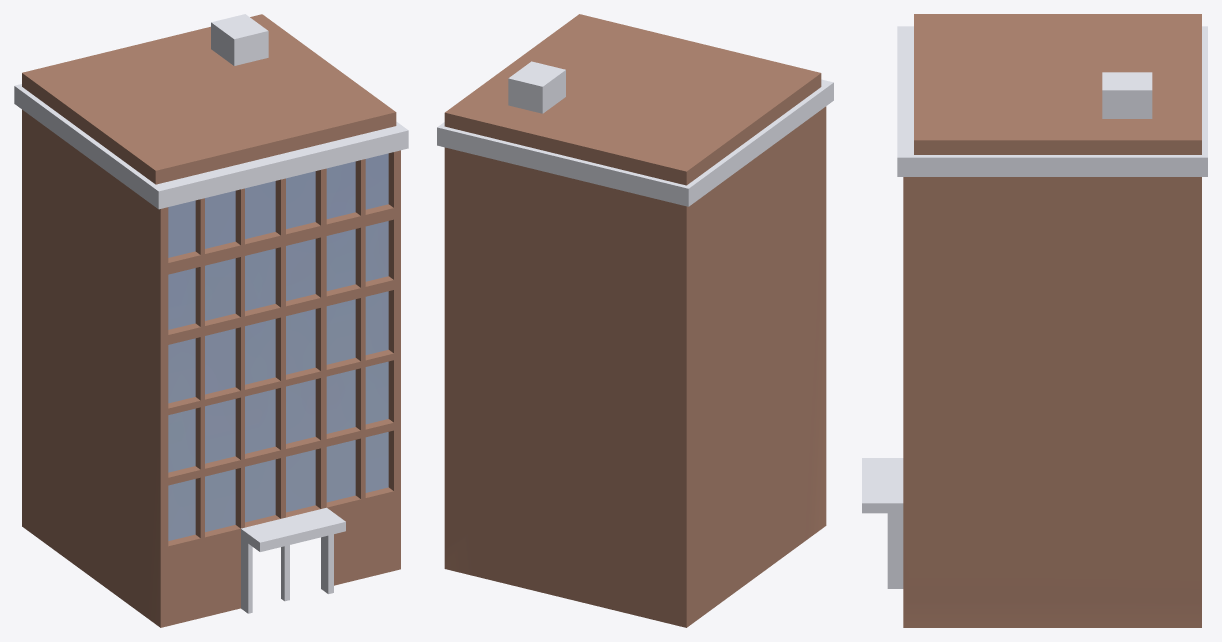
File: Build4.fbx
3 views of the same model, side by side, from view 1: azimuth 30°, elevation 25°; view 2: azimuth 150°, elevation 25°; view 3: azimuth 270°, elevation 25° (orthographic). The views are drawn at different scales.
Parts seen in each view (by area): view 1: Build4; view 2: Build4; view 3: Build4.
Part boxes in pixels (<box>): Build4: <box>14,14,408,627</box>; Build4: <box>437,14,833,627</box>; Build4: <box>862,14,1207,627</box>.
Size of the model in its own units: 1.57 by 2.89 by 1.75.
